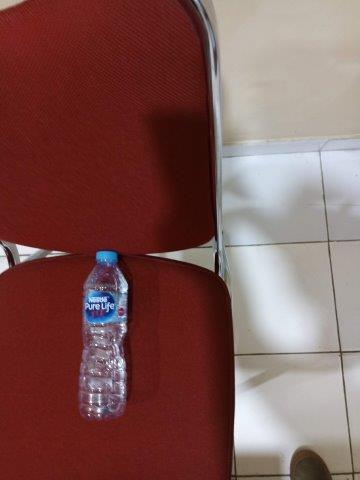botolplastik: (79, 249, 128, 416)
